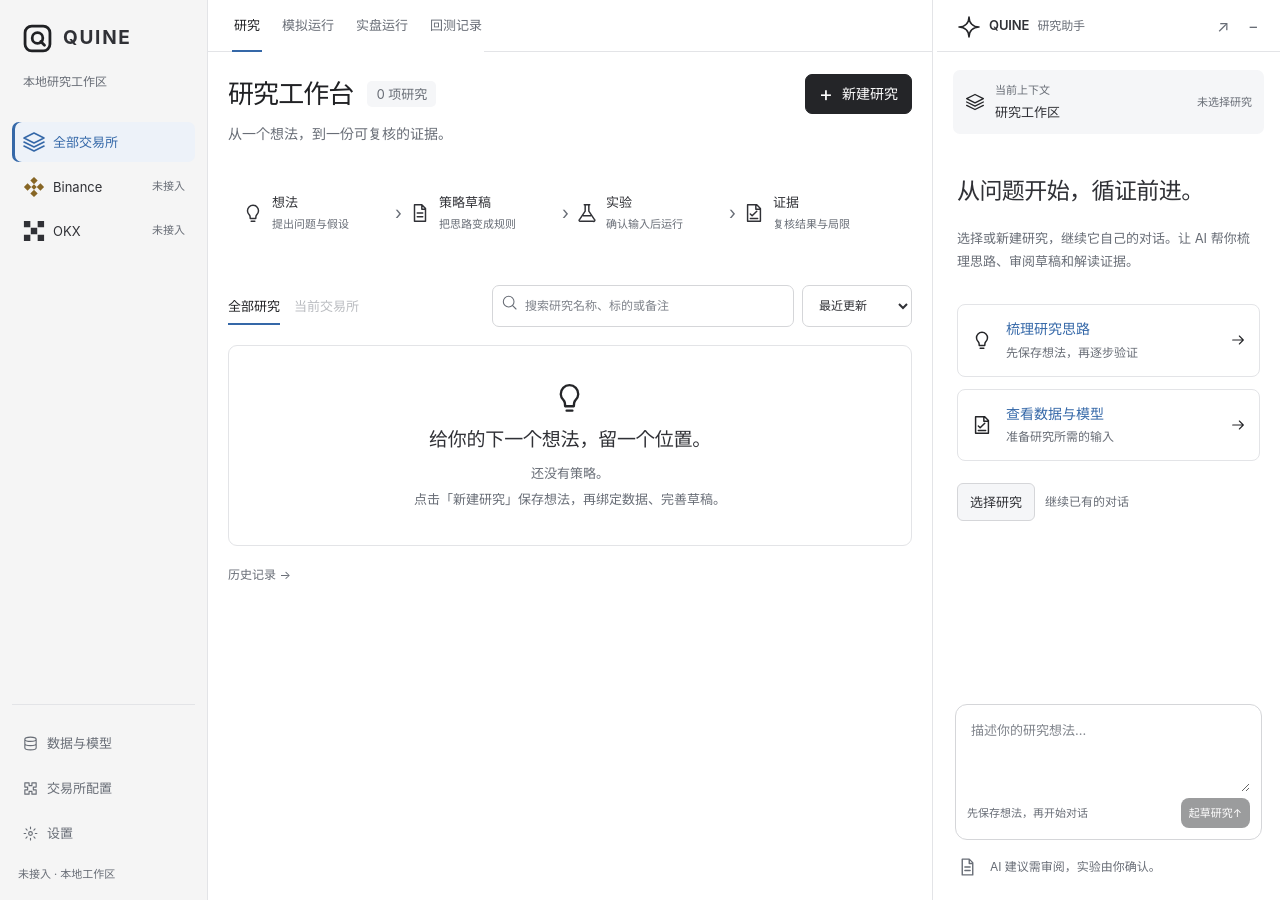
contextual research inputs and recovery › keeps saving independent of model configuration
Click the button "+ 新建研究" at (859, 94), box [805,74,912,114]
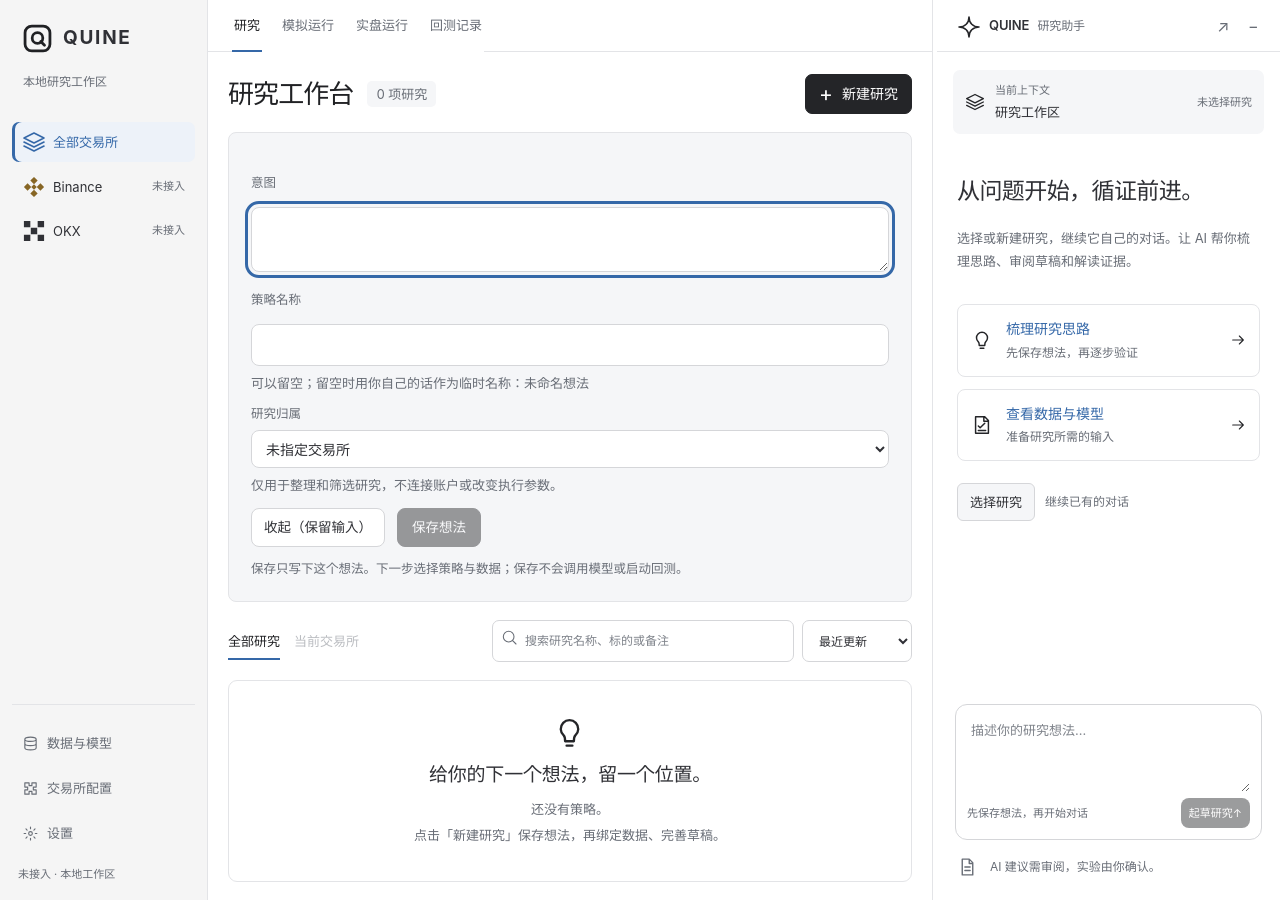
Type "Compare an entry delay" into the text box labelled "意图" at (570, 239), box [251,207,889,272]
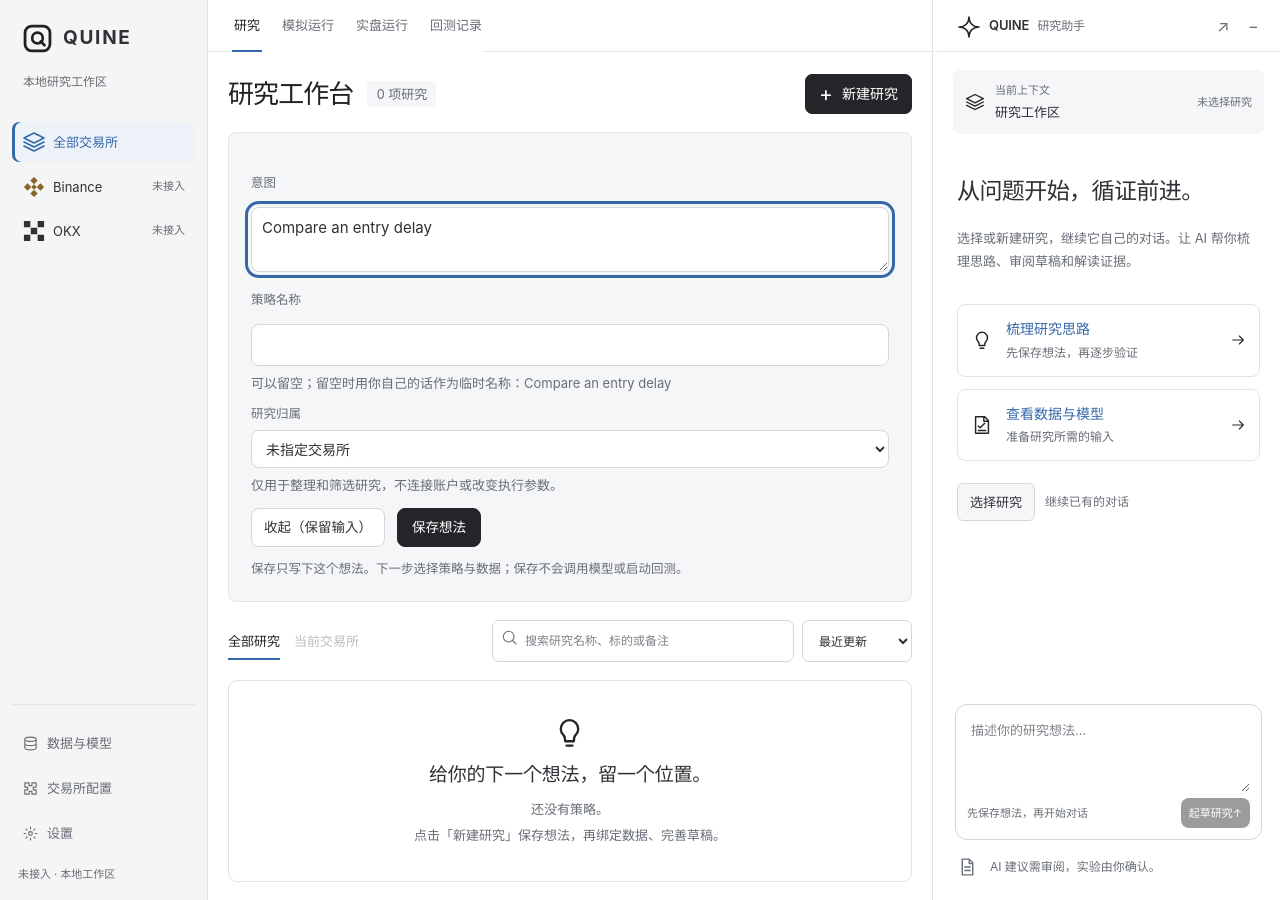
Click the button "保存想法" at (439, 527), box [397,508,481,547]
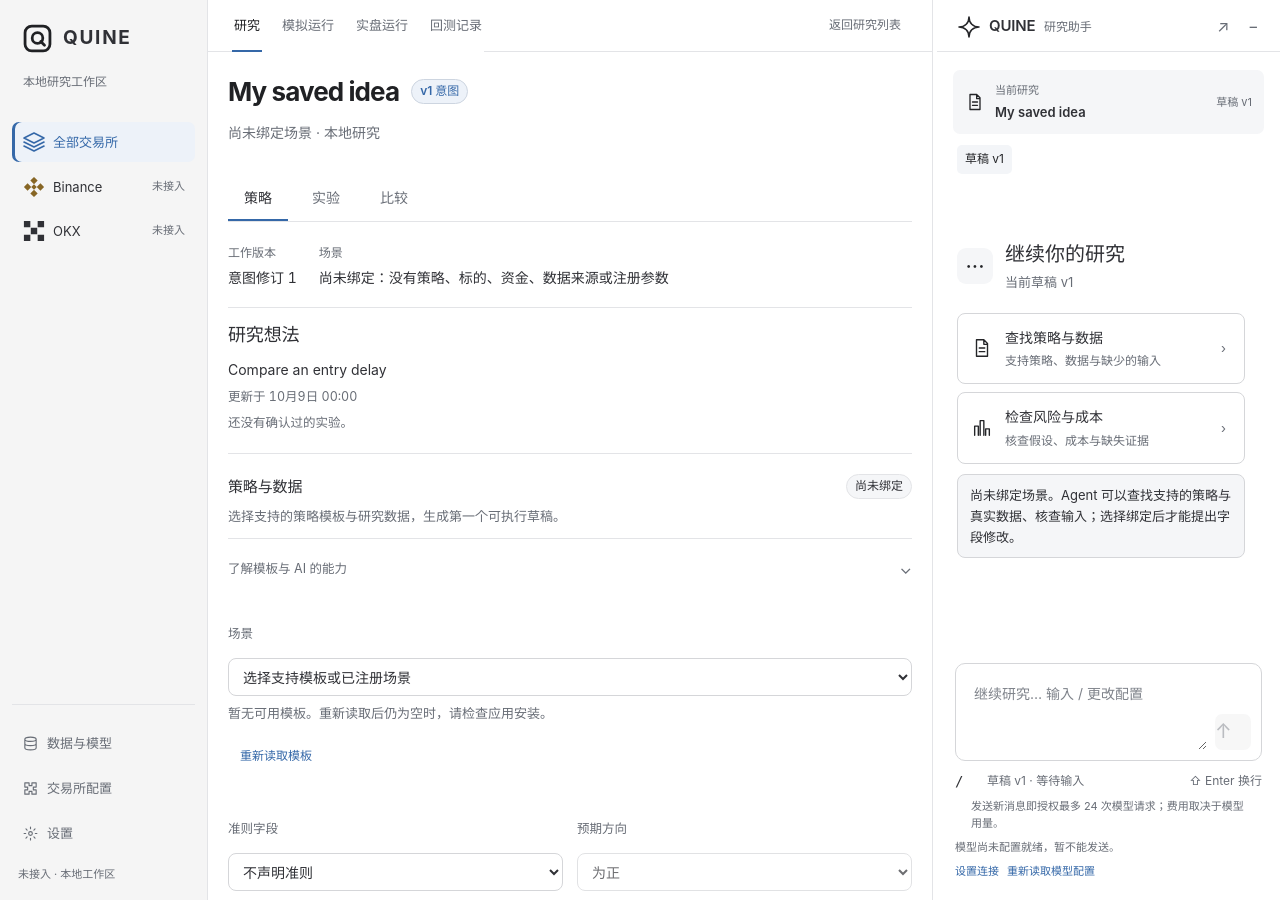
Check: the heading "My saved idea" is shown, box [228,74,399,109]
Check: the element named "AI 协作" is shown, box [937,0,1279,899]
